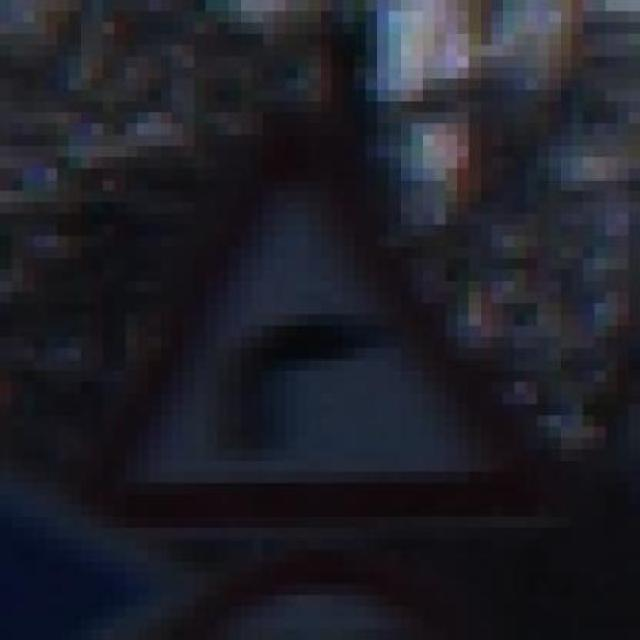Dangerous Rright Curve Ahead: (80, 112, 537, 528)
